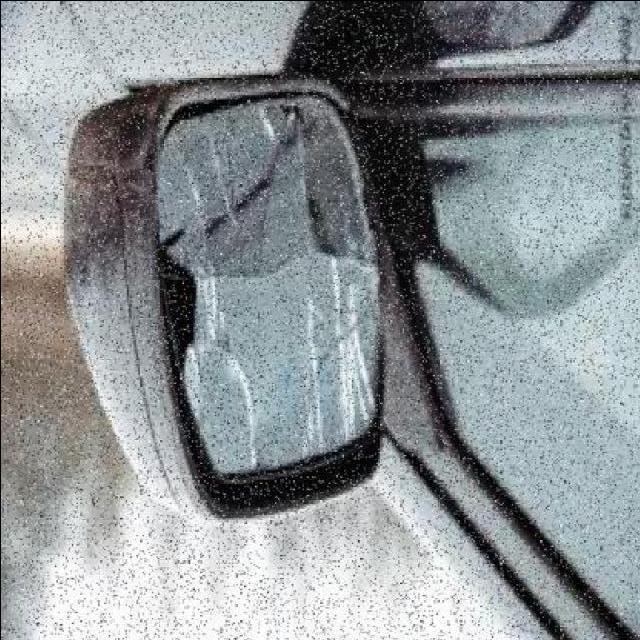Sidemirror-Damage: (25, 53, 405, 546)
